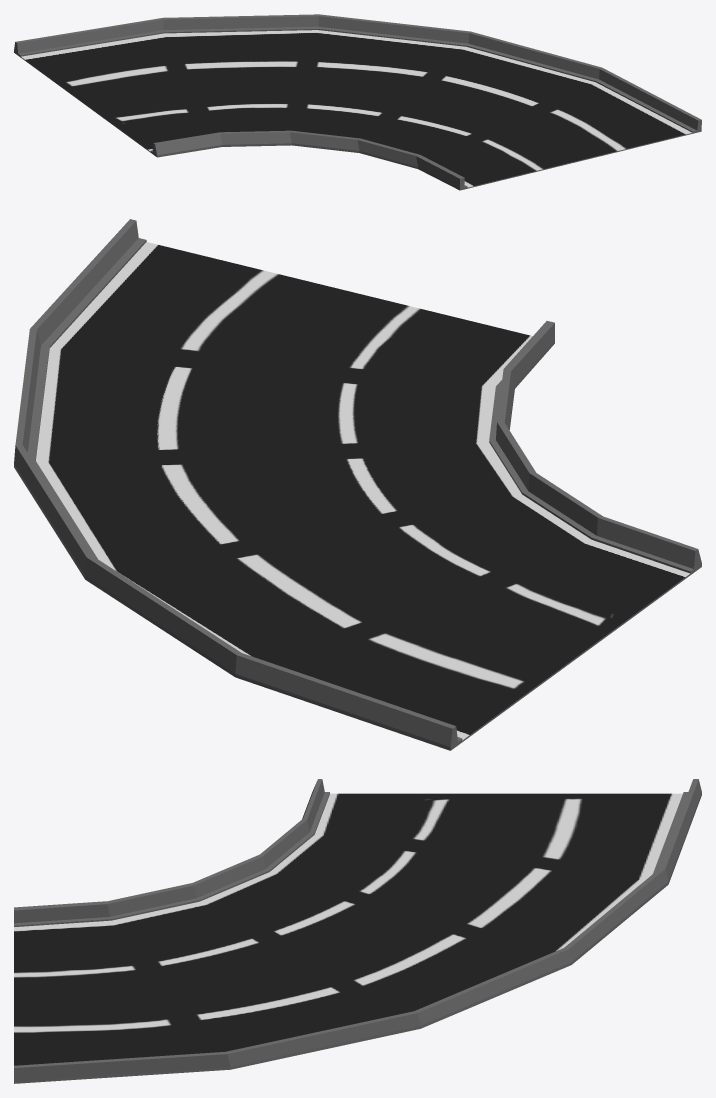
File: smallroadcurve.FBX
3 renders of one model, top to bottom at view 1: azimuth 30°, elevation 25°; view 2: azimuth 150°, elevation 25°; view 3: azimuth 270°, elevation 25°, orthographic. The views are drawn at different scales.
Visible parts, largest first — view 1: Cylinder001; view 2: Cylinder001; view 3: Cylinder001.
Part boxes in pixels (x1=…): Cylinder001: x1=14, y1=14, x2=701, y2=190; Cylinder001: x1=14, y1=219, x2=701, y2=750; Cylinder001: x1=14, y1=779, x2=701, y2=1083.
Size of the model in its own units: 1280 by 32.98 by 1288.
